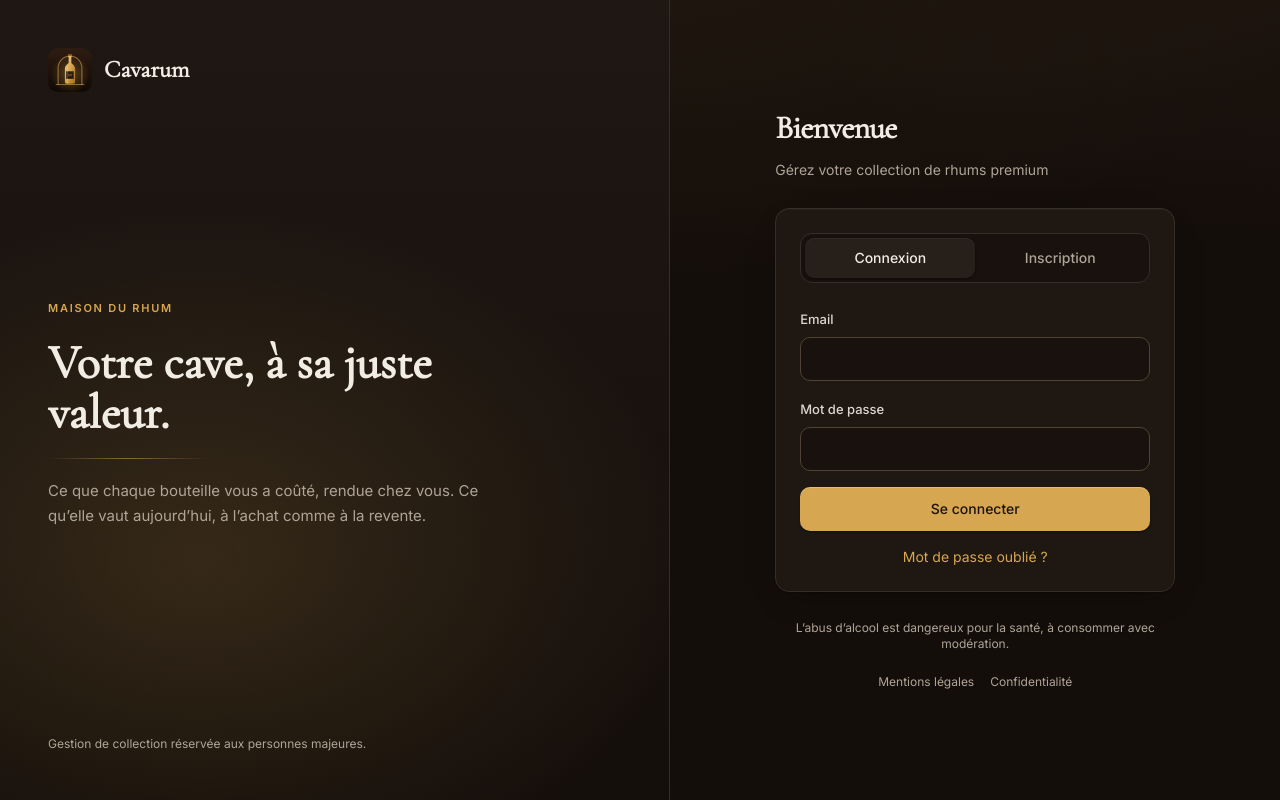
Test case: AuthPage › affiche l’erreur renvoyée par le serveur
Type "fred@example.com" into the field labelled "Email".
click(975, 359); type("fred@example.com")  # box [800,337,1150,381]
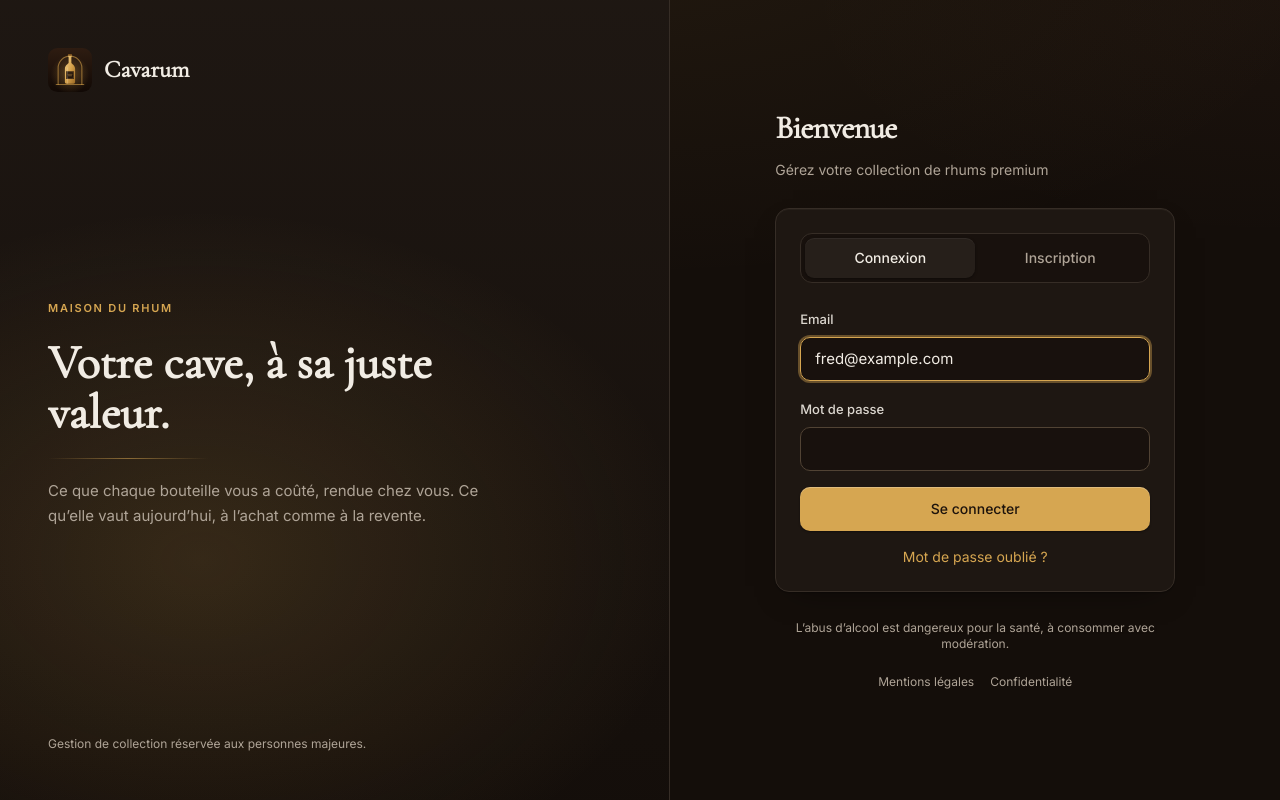
Type "faux" into the password field labelled "Mot de passe".
click(975, 449); type("faux")  # box [800,427,1150,471]
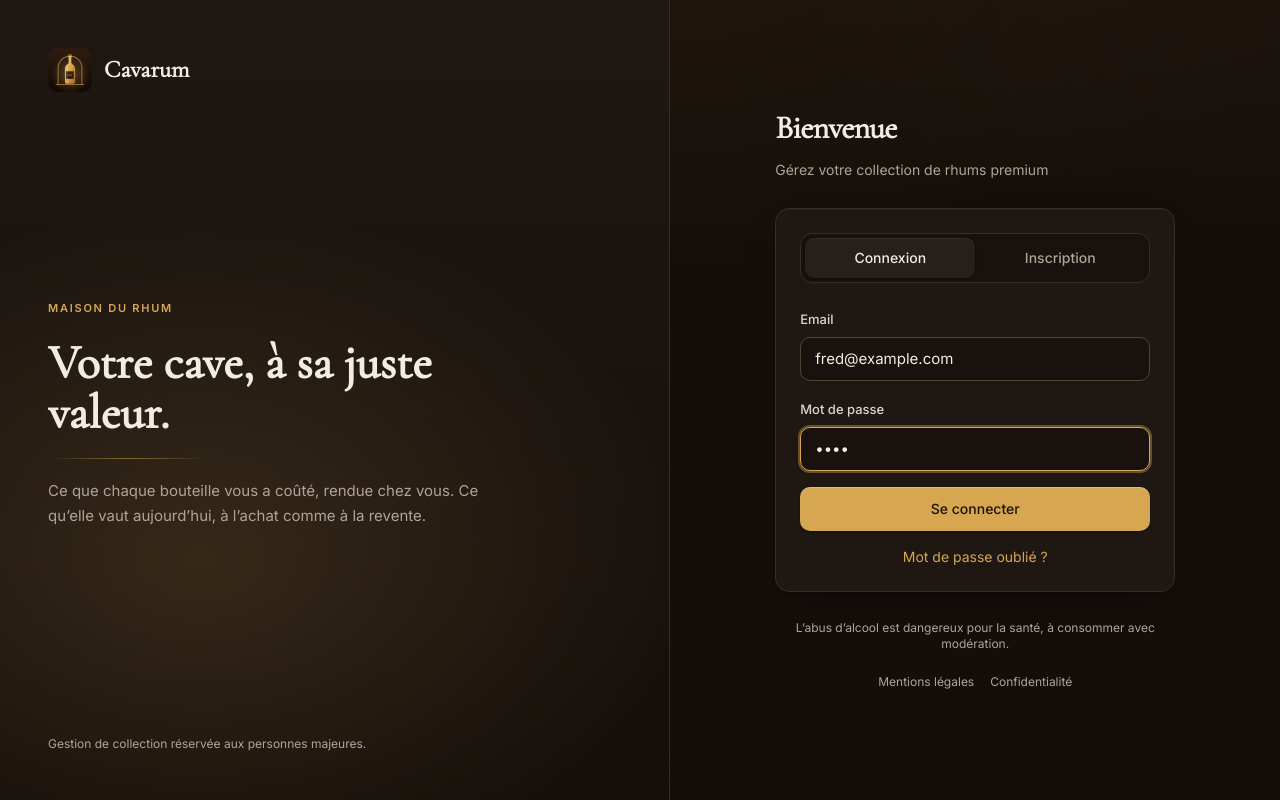
Click the button "Se connecter".
click(975, 509)  # box [800,487,1150,531]
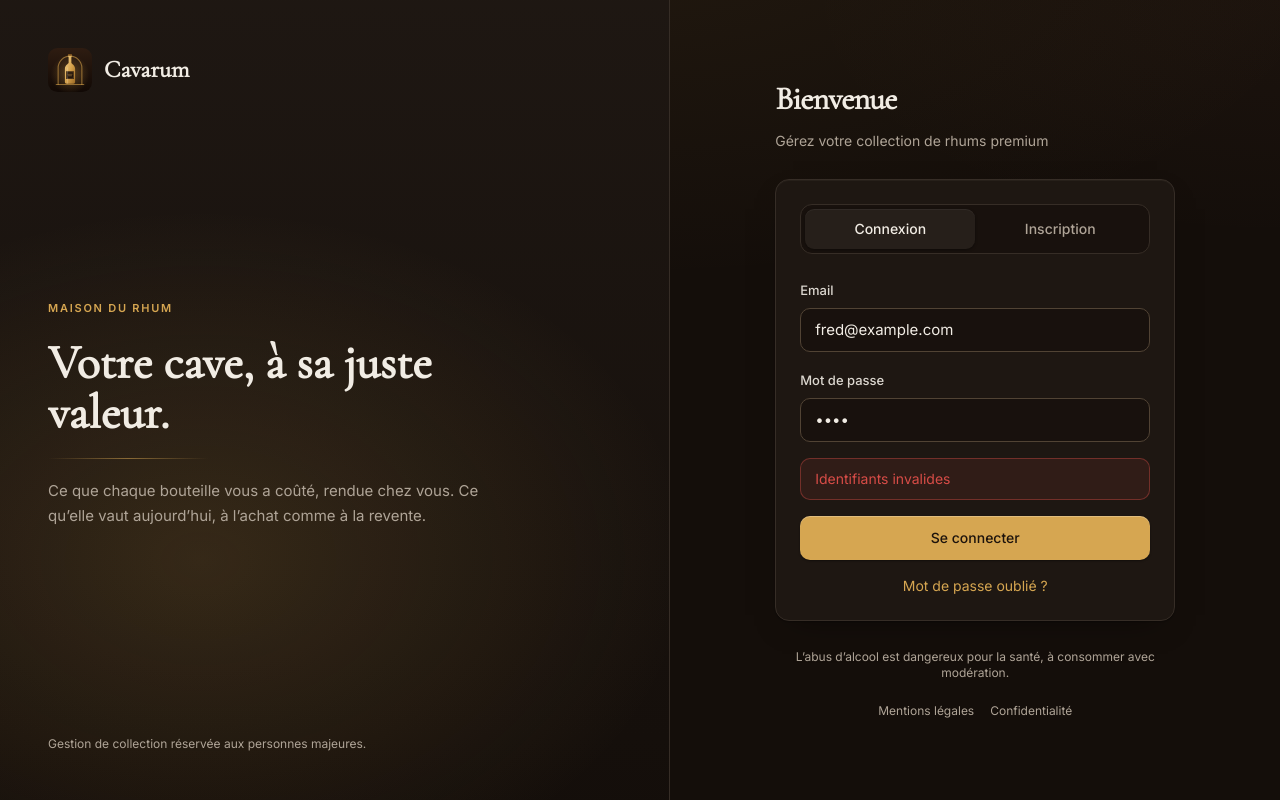
Result: the message reads "Identifiants invalides" at [815,470,950,487]
